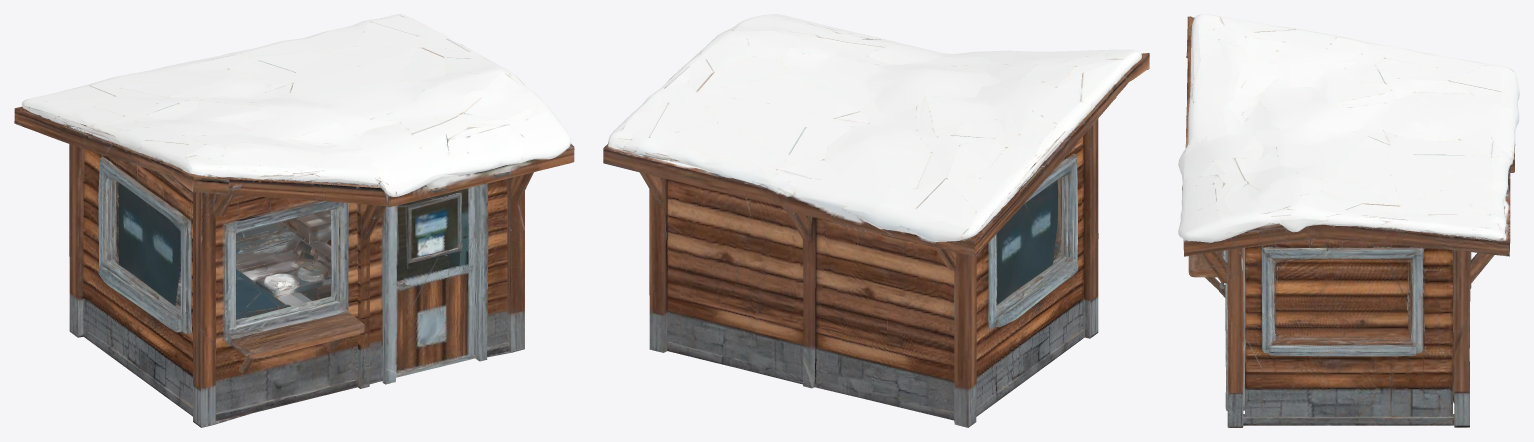
File: ticket_booth.glb
3 views of the same model, side by side, from view 1: azimuth 30°, elevation 25°; view 2: azimuth 150°, elevation 25°; view 3: azimuth 270°, elevation 25° (orthographic). The views are drawn at different scales.
Bounding box in the file's own units: 1.9 × 1.33 × 1.59.
1 material, 1 textured.
